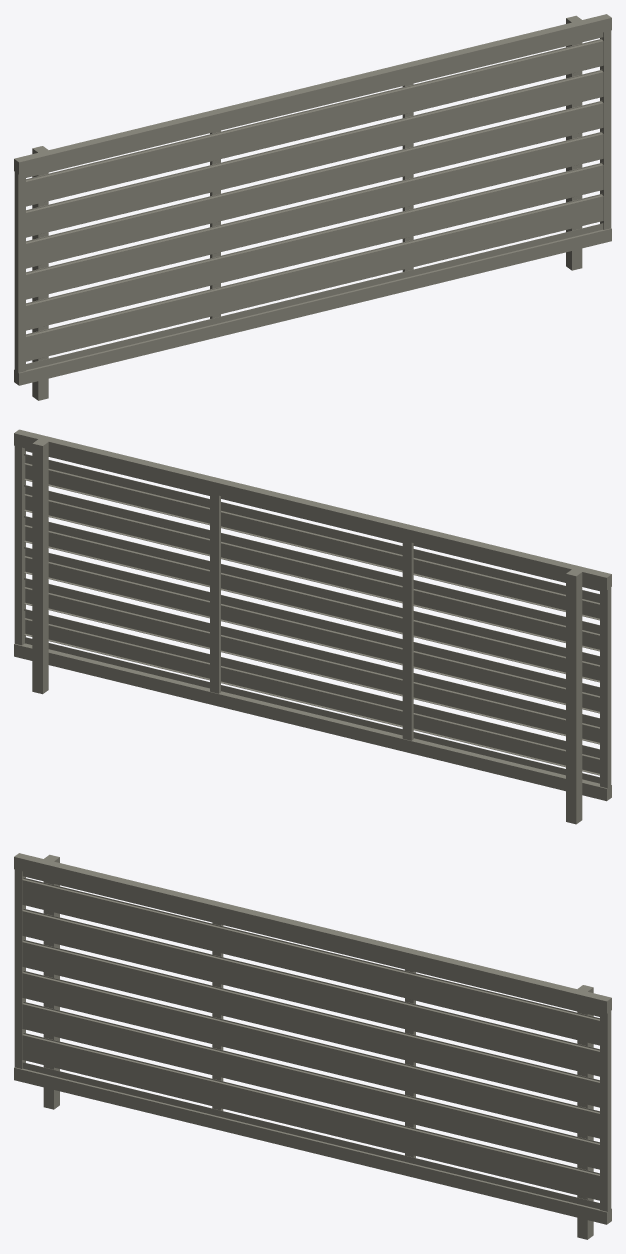
File: eaf-yokopanel_h2008_soutiencollar.fbx
3 views of the same model, one above another, from view 1: azimuth 30°, elevation 25°; view 2: azimuth 150°, elevation 25°; view 3: azimuth 330°, elevation 25° (orthographic).
Visible parts, largest first — view 1: eaf-yokopanel_h2008_stain; view 2: eaf-yokopanel_h2008_stain; view 3: eaf-yokopanel_h2008_stain.
Boxes of the visible parts, <box> form: eaf-yokopanel_h2008_stain: <box>14,14,611,400</box>; eaf-yokopanel_h2008_stain: <box>14,429,611,824</box>; eaf-yokopanel_h2008_stain: <box>14,853,611,1239</box>.
Size of the model in its own units: 200 by 80 by 6.5.
Materials: 1 (1 with a texture image).
